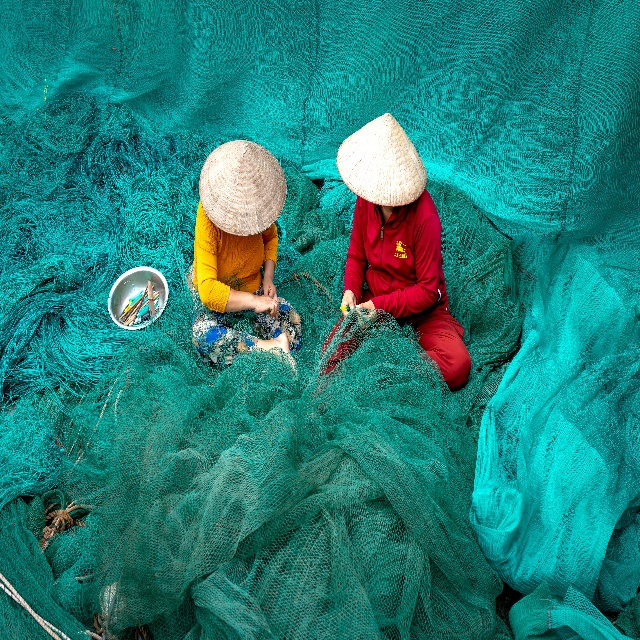Sin_guantes: (355, 300, 376, 333), (254, 299, 279, 318), (261, 281, 280, 304), (341, 291, 353, 316)
